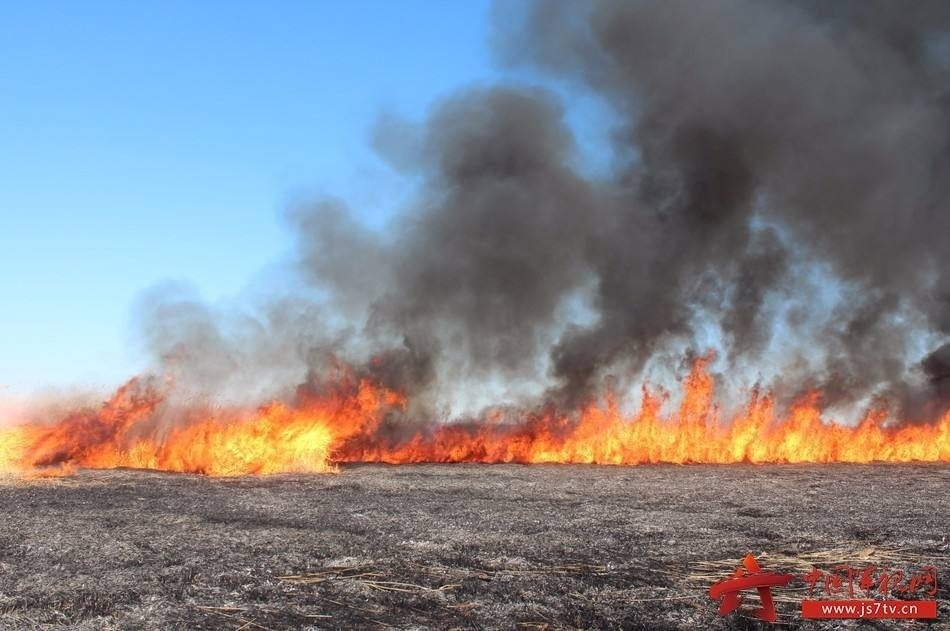fire: (0, 364, 819, 485)
